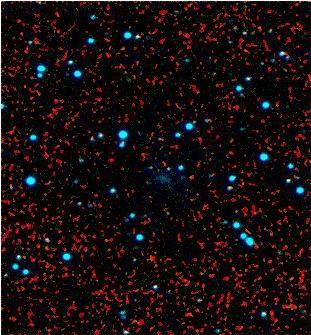star: (178, 162, 208, 192)
